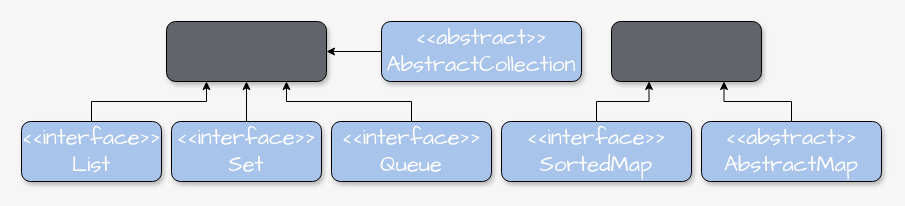
This 905x206 diagram has some shape labels left out. Each missing label, with the centre of its shape:
<<interface>> Collection: [247,52]
<<interface>> Map: [687,52]
